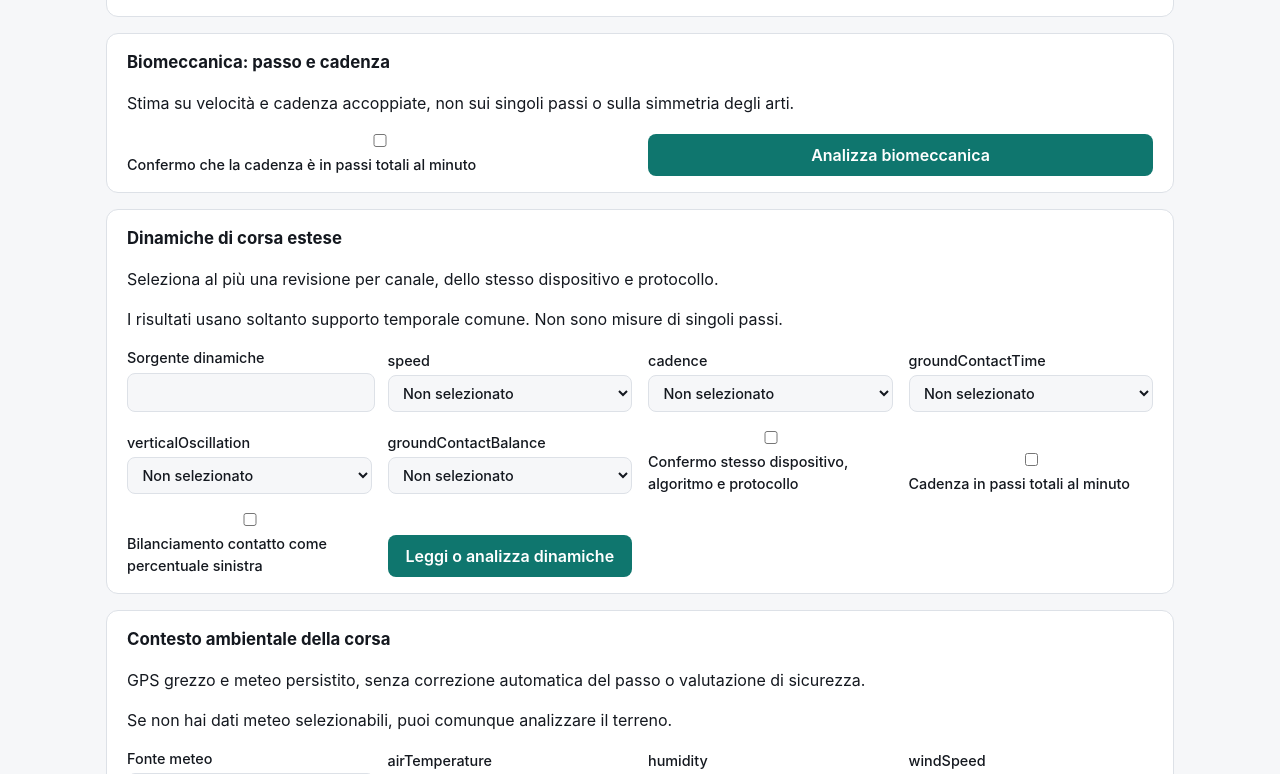
Test: dinamiche estese › seleziona revisioni e mostra copertura effettiva
(page scrolled)
In the field labelled "Sorgente dinamiche": (251, 392) [127,373,375,412], type "garmin-test"
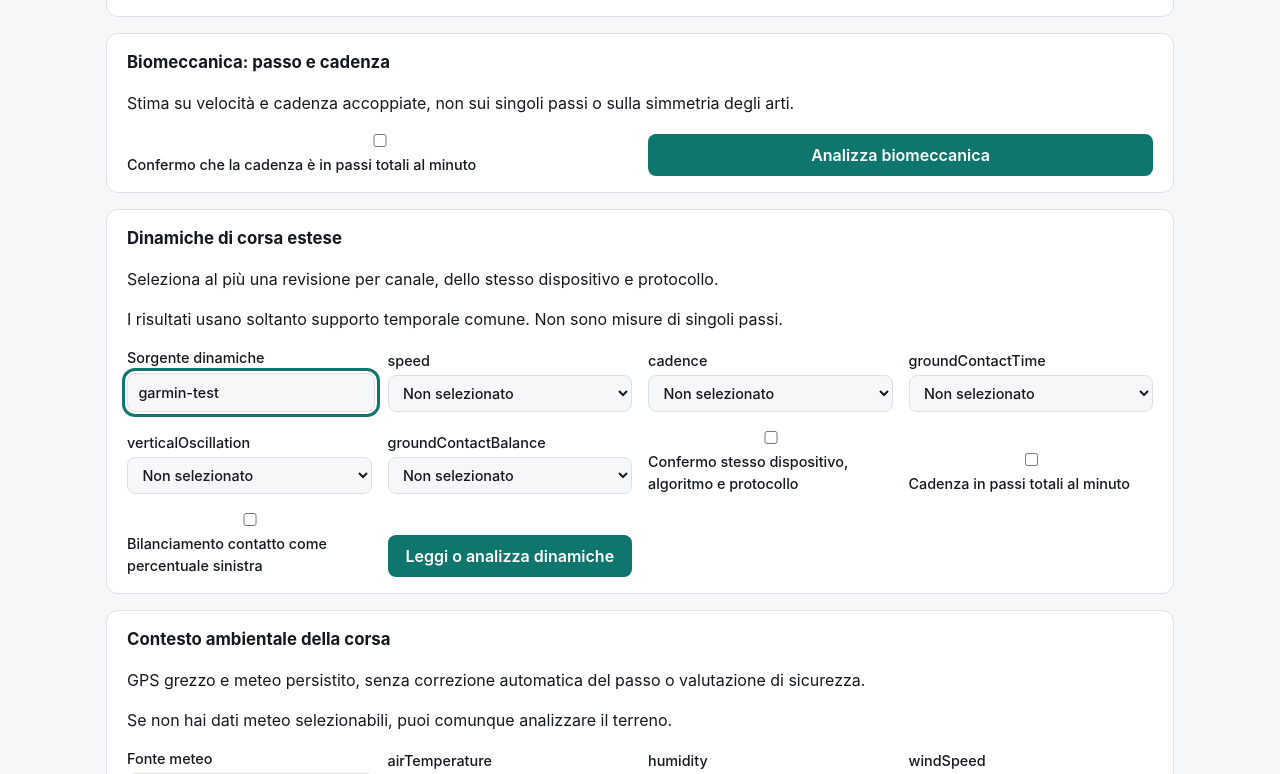
Click the button "Leggi o analizza dinamiche": (510, 556) [388,535,632,577]
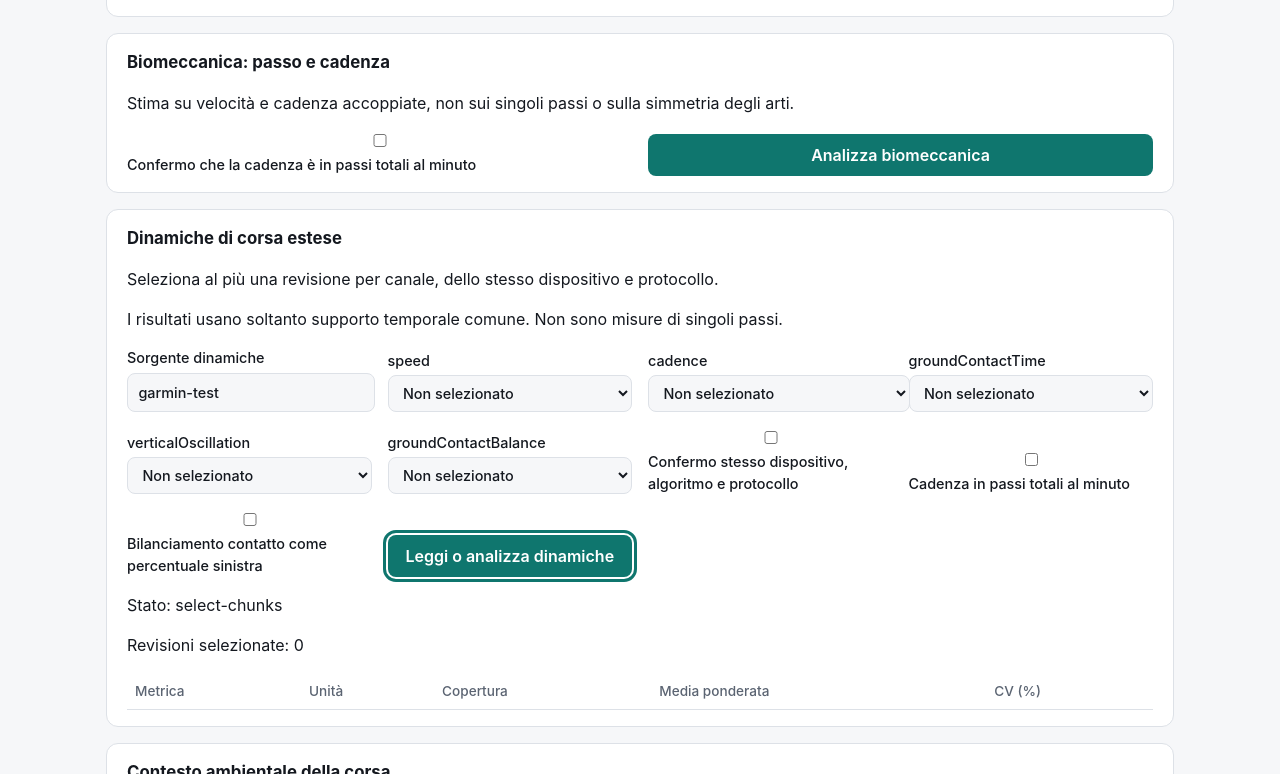
Expected: the text "Stato: select-chunks" is shown, [127,595,282,615]
Select "cad · r1 · 2026-11-25T12:00:00Z" in the dropdown labelled "cadence": (779, 394) [648,375,910,412]
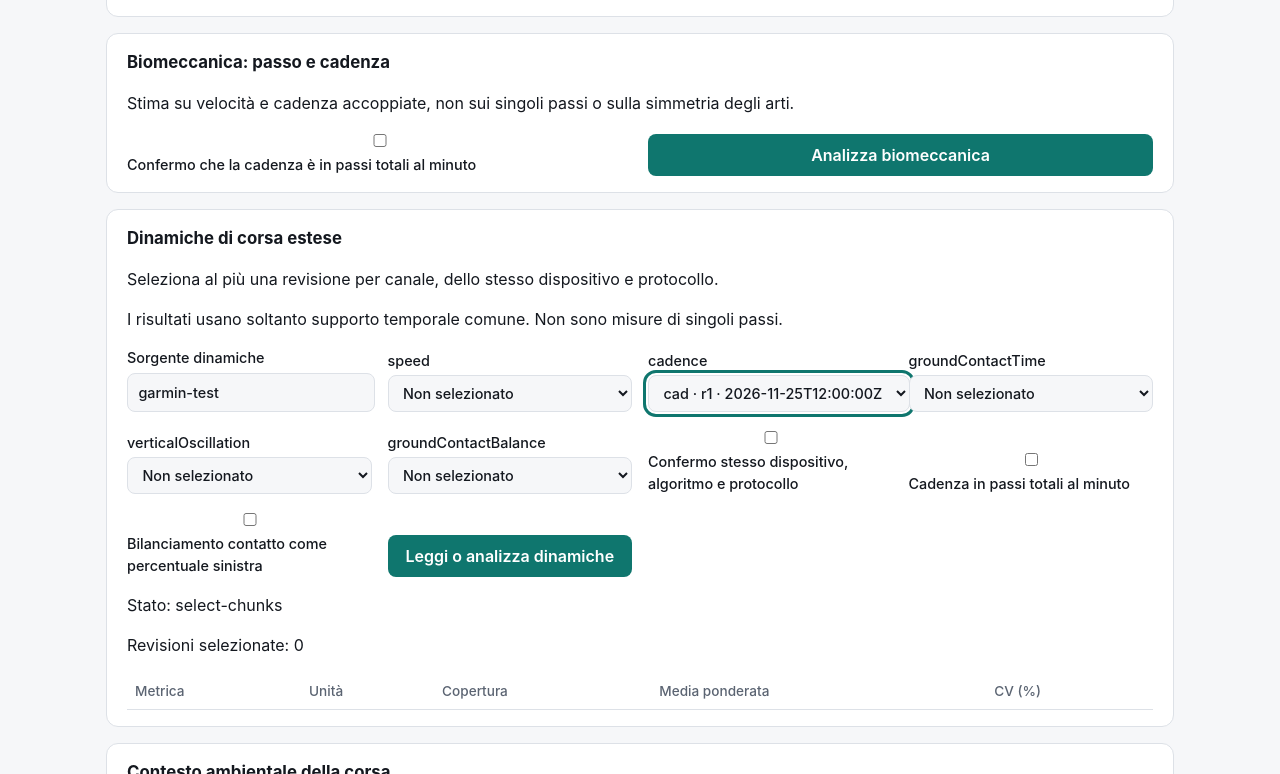
Click the checkbox labelled "Cadenza in passi totali al minuto": (1031, 459) [912,453,1150,466]
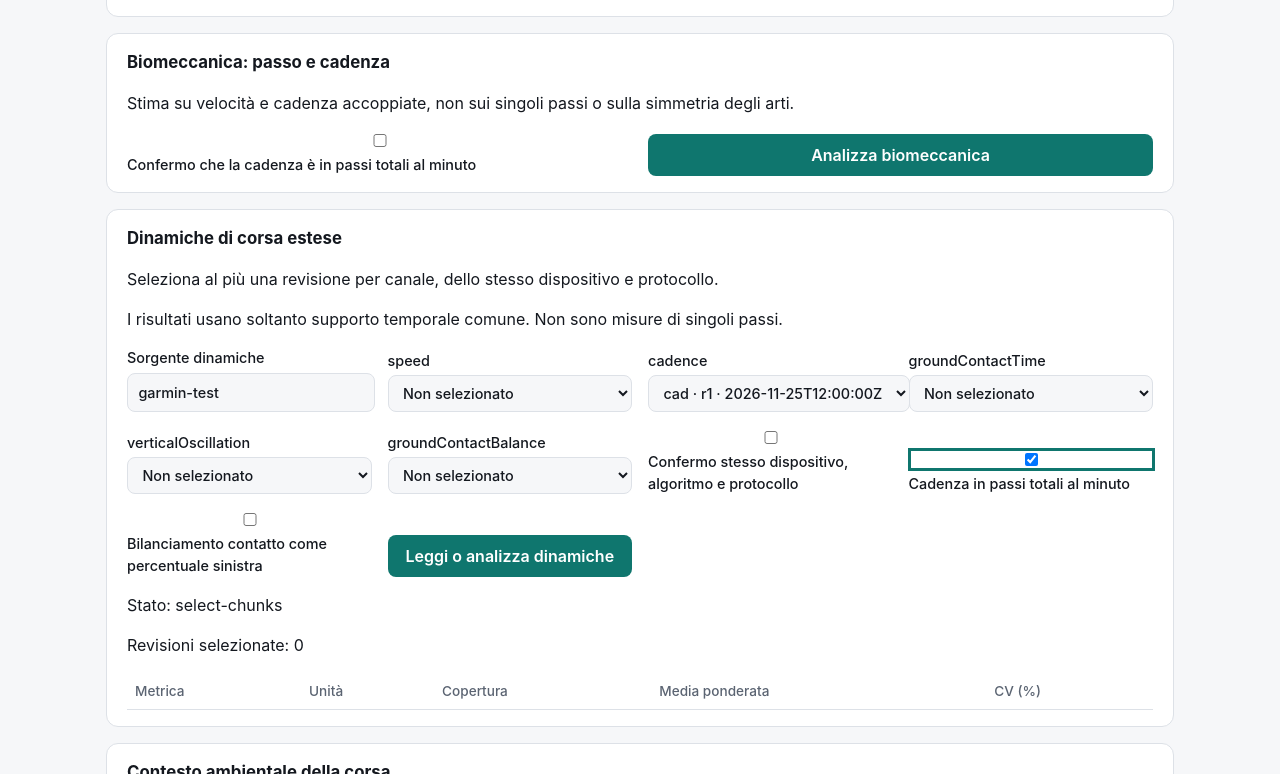
Click the button "Leggi o analizza dinamiche": (510, 556) [388,535,632,577]
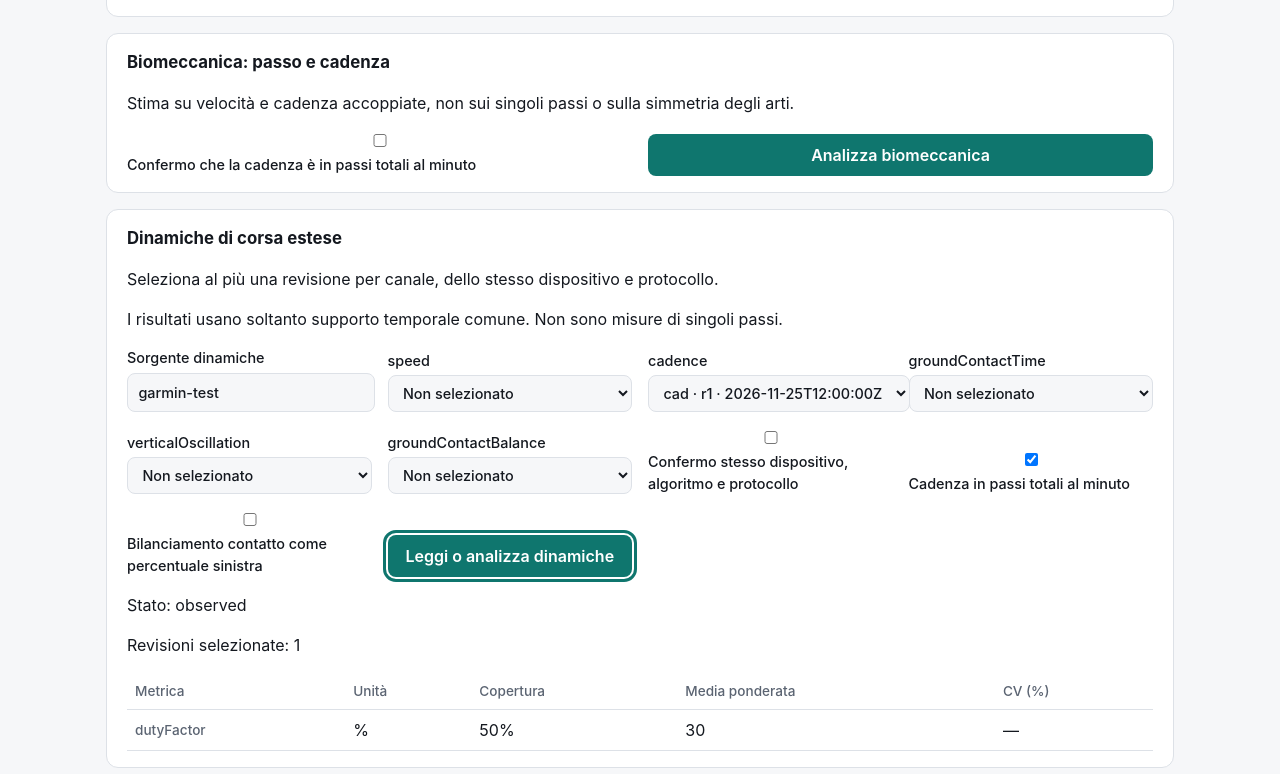
Expected: the column heading "dutyFactor" is shown, [127,710,345,750]
Expected: the text "50%" is shown, [471,710,677,750]
